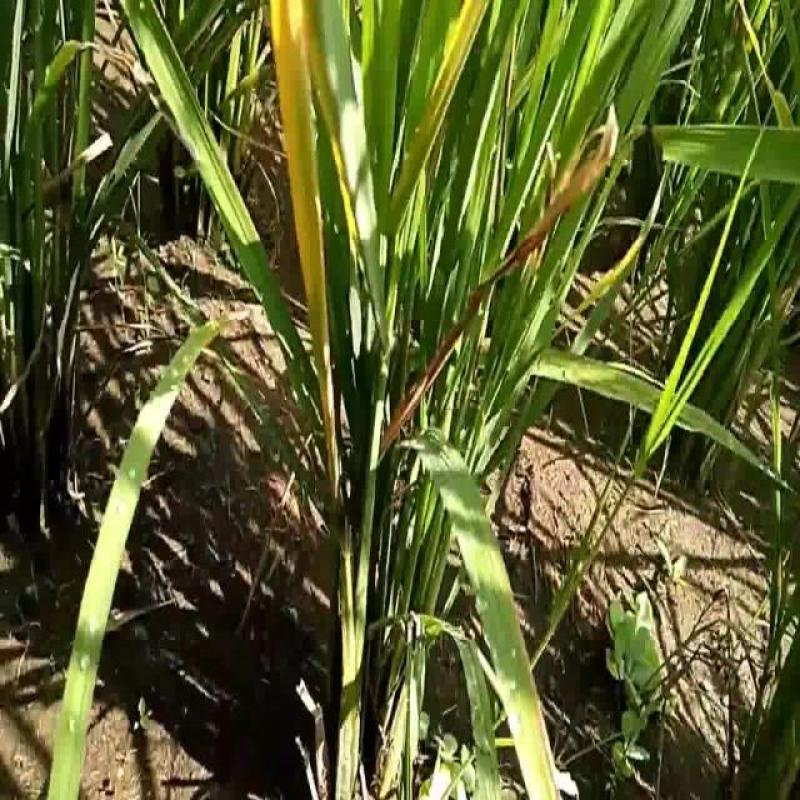Rice Tungro: (265, 3, 343, 455), (414, 4, 491, 148)
